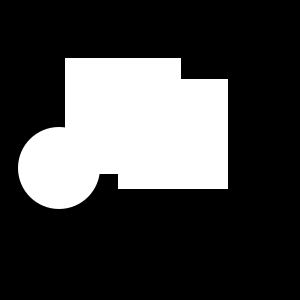circle: (65, 58, 181, 174), (118, 79, 228, 189)
rectangle: (18, 127, 100, 209)
